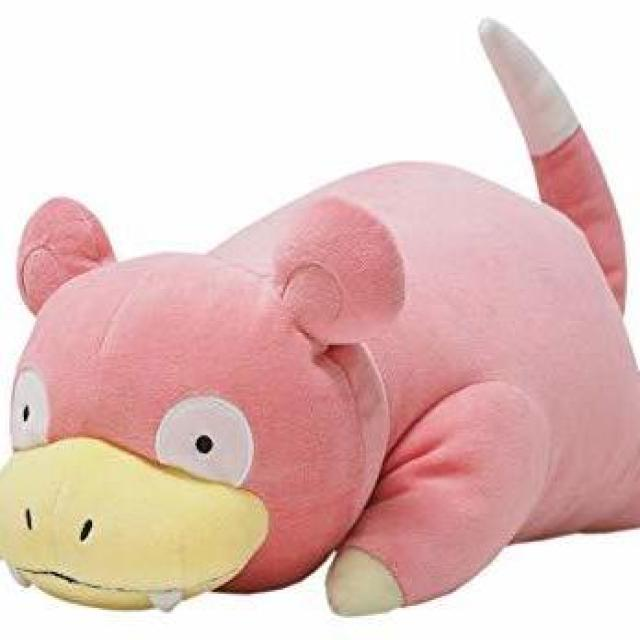Slowpoke: (0, 57, 618, 616)
